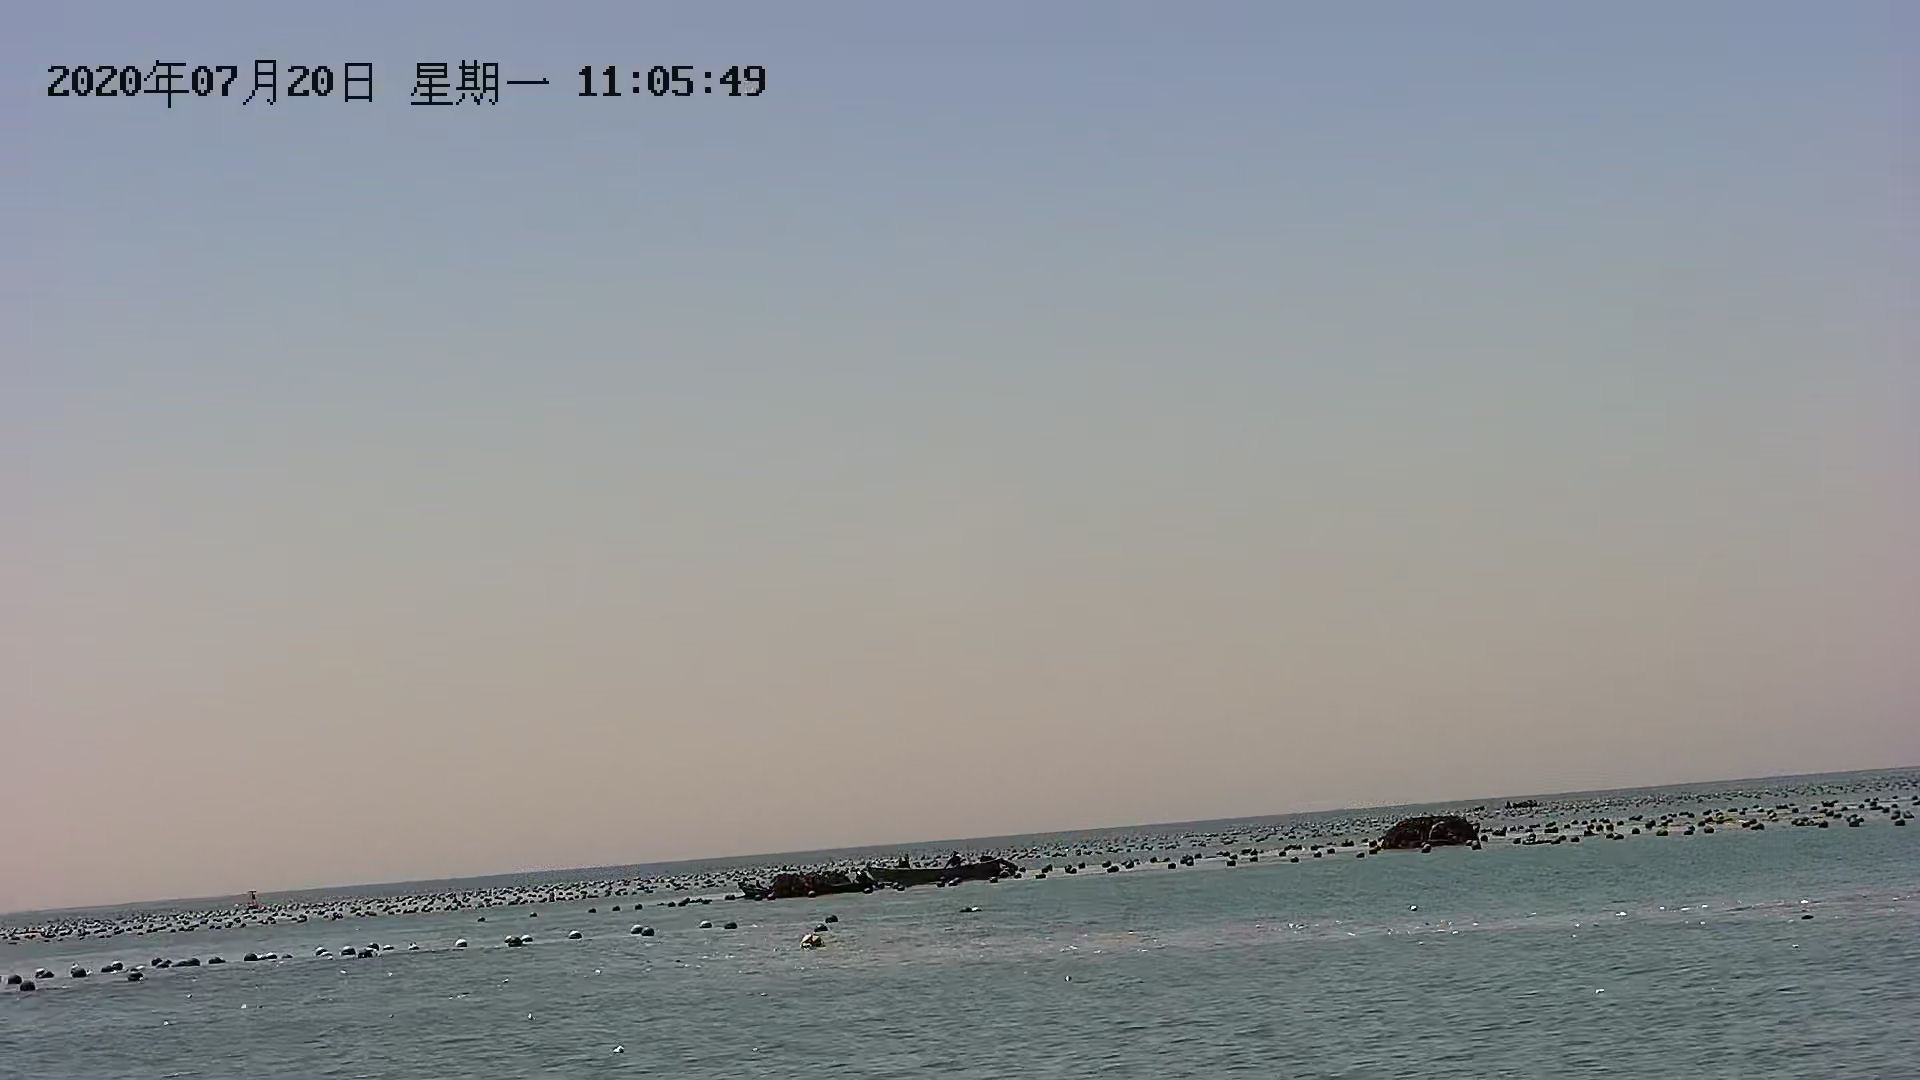rock: (738, 856, 1015, 894), (1369, 806, 1503, 857)
